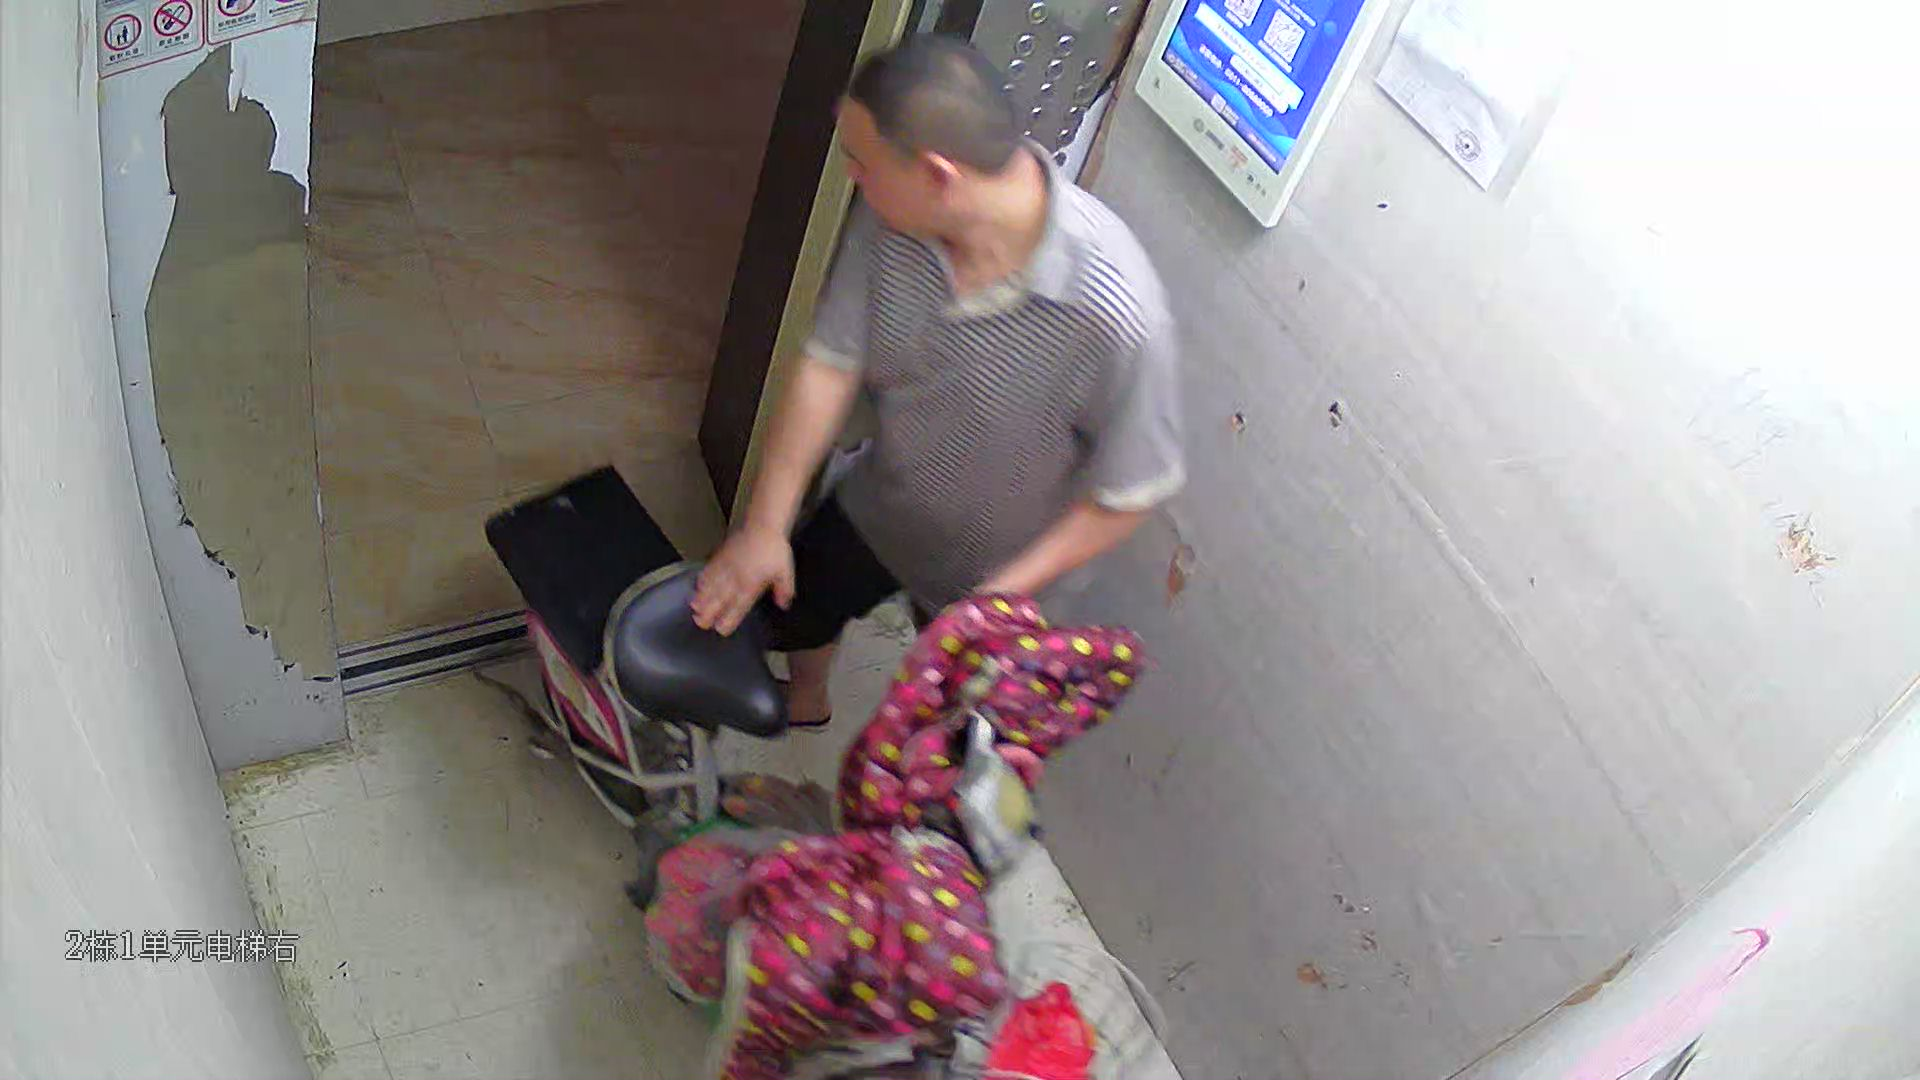Electric-bicycle: (477, 465, 1147, 1077)
